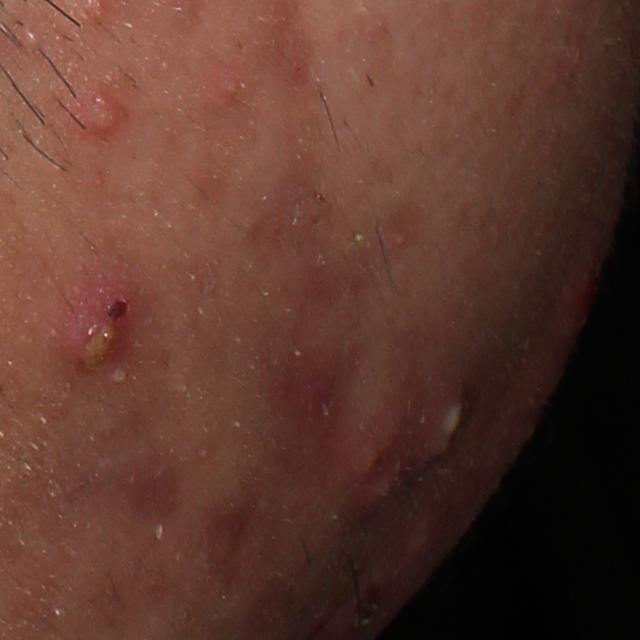comedo: (19, 26, 43, 54)
papule: (557, 260, 604, 332), (357, 419, 399, 489), (359, 462, 408, 508), (203, 66, 243, 102)
pustule: (65, 313, 124, 375), (76, 89, 126, 138), (430, 391, 465, 454)
